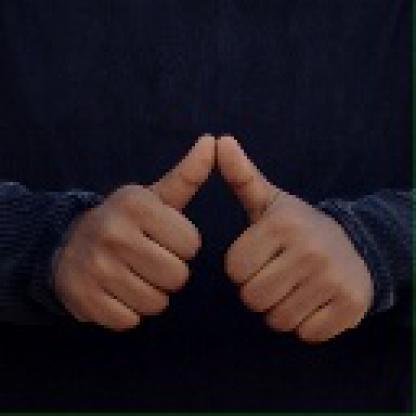A: (55, 129, 378, 348)
